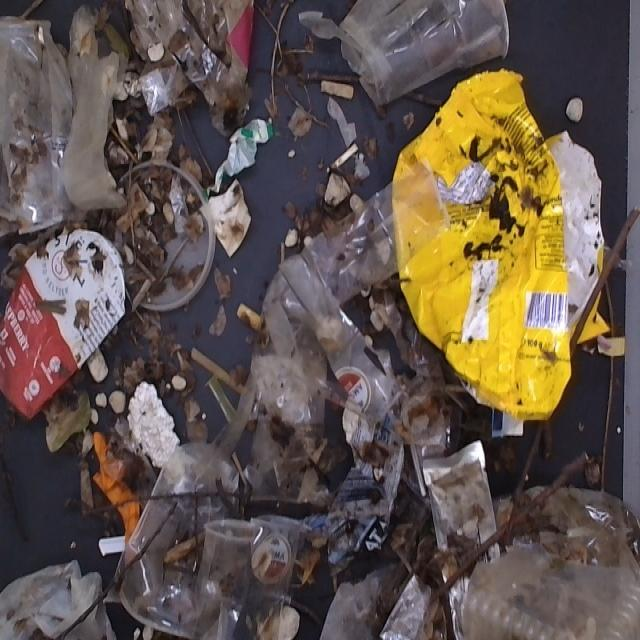cigarette_butts: (236, 295, 266, 347)
food_packaging: (460, 499, 640, 640), (0, 228, 125, 428), (117, 0, 262, 110)
food_wrapping: (375, 67, 634, 421), (399, 415, 500, 639), (316, 410, 408, 604), (86, 440, 147, 558)
plastic_cups: (262, 250, 407, 426), (0, 5, 91, 241), (327, 0, 537, 101), (123, 450, 231, 640), (106, 162, 222, 328), (204, 510, 294, 640)
plastic_films: (0, 550, 128, 640), (138, 54, 186, 127)
styrofoam: (128, 380, 190, 475)
undef_hard_plastic: (195, 180, 256, 256), (323, 92, 373, 183), (212, 120, 285, 176)
